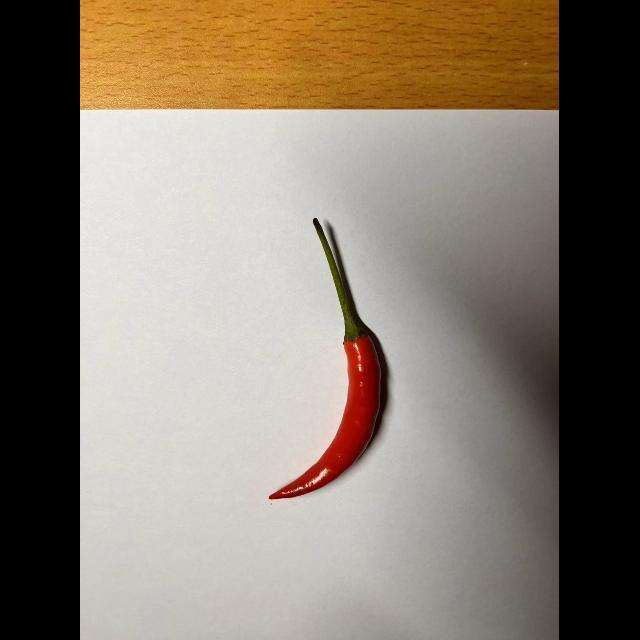chili_pepper: (257, 219, 393, 505)
